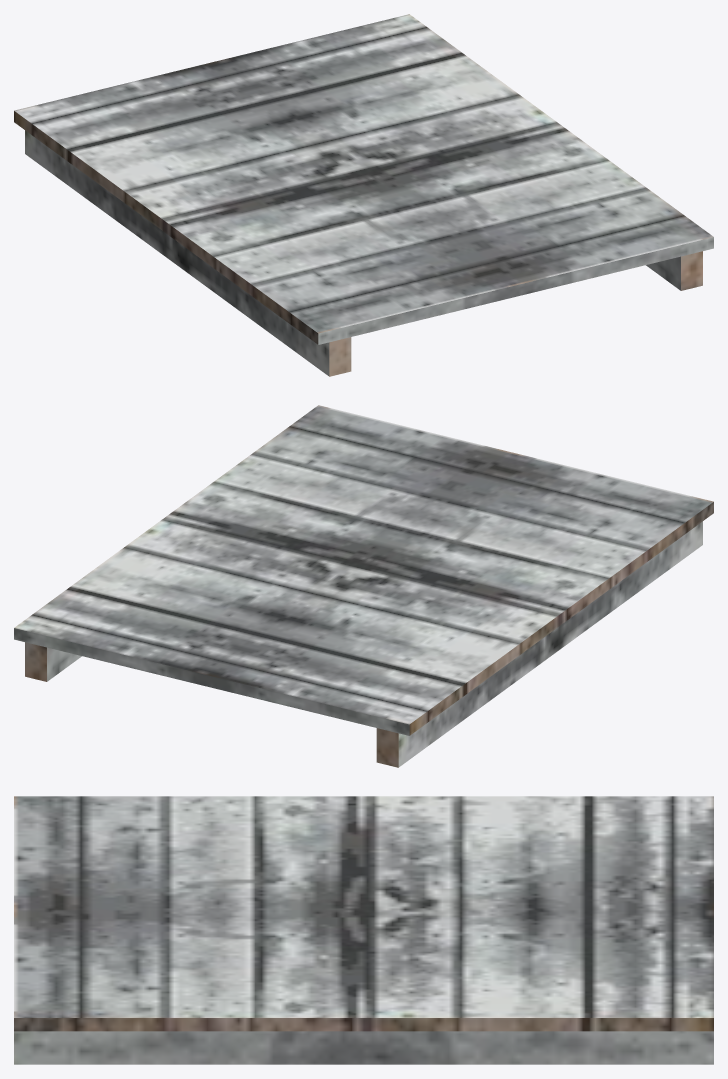
File: pallet.glb
3 renders of one model, top to bottom at view 1: azimuth 30°, elevation 25°; view 2: azimuth 150°, elevation 25°; view 3: azimuth 270°, elevation 25°, orthographic. The views are drawn at different scales.
Parts seen in each view (by area): view 1: instance_0; view 2: instance_0; view 3: instance_0.
Part boxes in pixels (x1,y1,x2,y2): instance_0: (14,14,713,376); instance_0: (14,405,713,767); instance_0: (14,796,713,1064).
Bounding box in the file's own units: 0.9 × 0.1 × 1.2.
1 material, 1 textured.
